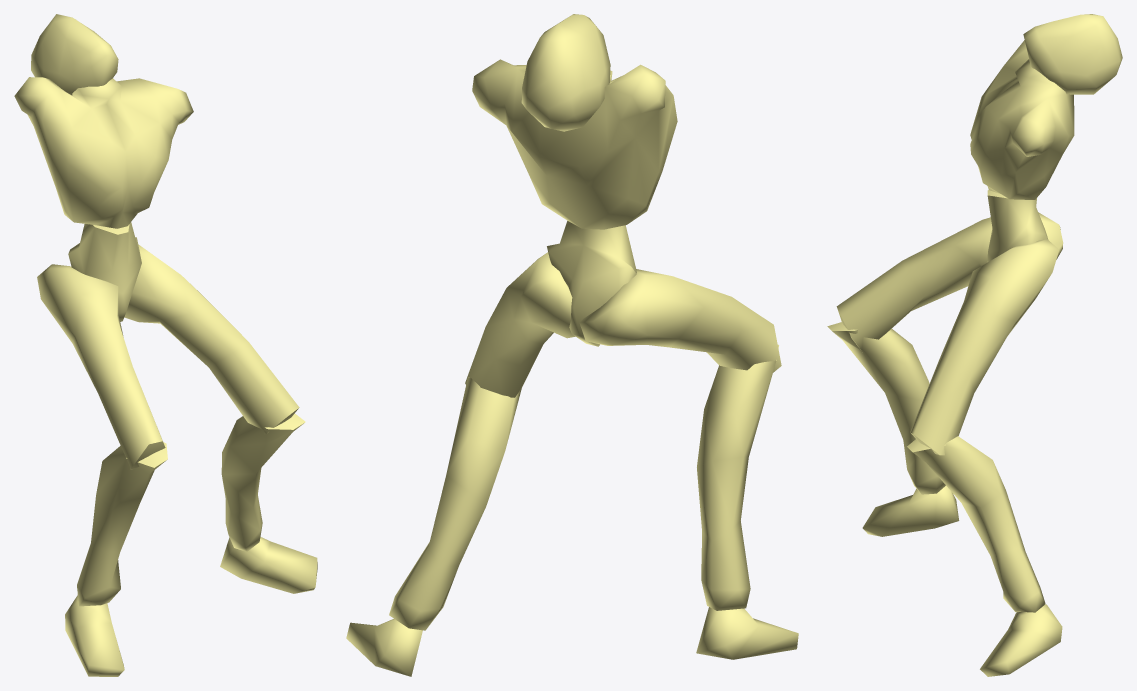
Rendered from filth34.obj.
The picture shows the model from 3 angles, left to right: view 1: azimuth 30°, elevation 25°; view 2: azimuth 150°, elevation 25°; view 3: azimuth 270°, elevation 25°; orthographic projection. The views are drawn at different scales.
Visible parts, largest first — view 1: Melee_Husk; view 2: Melee_Husk; view 3: Melee_Husk.
Boxes of the visible parts, x1,y1,x2,y2 form: Melee_Husk: (14, 14, 317, 676); Melee_Husk: (346, 14, 798, 676); Melee_Husk: (827, 14, 1122, 676).
Size of the model in its own units: 37.77 by 71.05 by 33.34.
